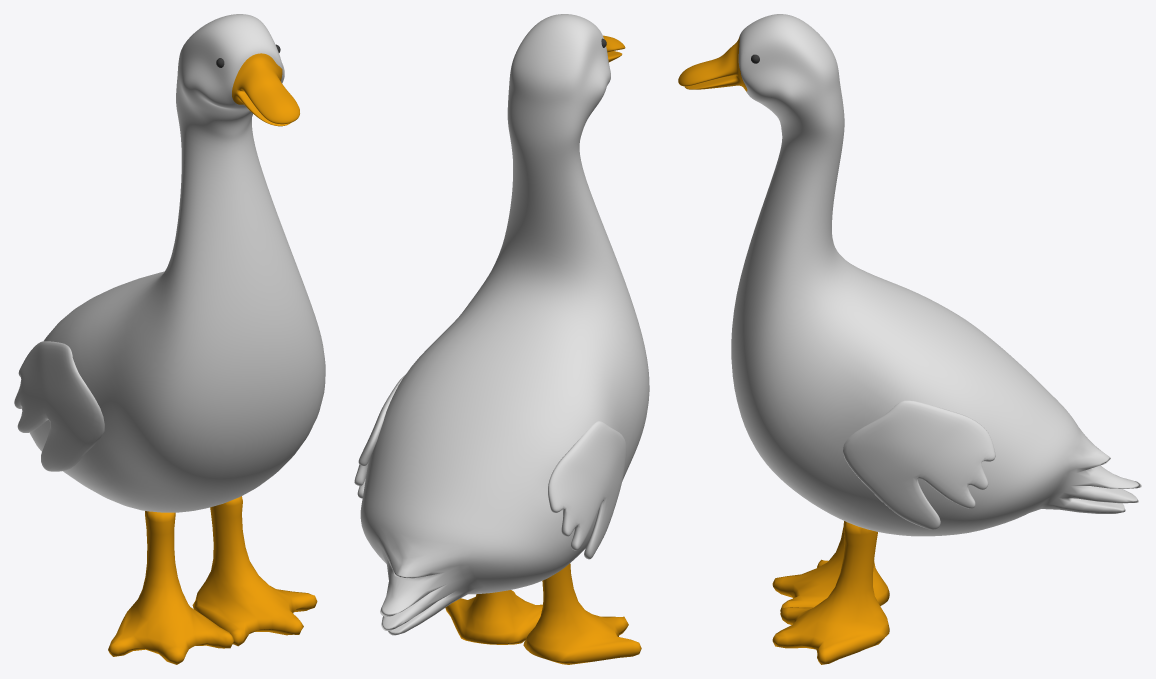
File: UTKA.fbx
The picture shows the model from 3 angles, left to right: view 1: azimuth 30°, elevation 25°; view 2: azimuth 150°, elevation 25°; view 3: azimuth 270°, elevation 25°; orthographic projection. The views are drawn at different scales.
Visible parts, largest first — view 1: pCube2; view 2: pCube2; view 3: pCube2.
Boxes of the visible parts, x1,y1,x2,y2 form: pCube2: [14, 14, 325, 664]; pCube2: [354, 14, 649, 664]; pCube2: [678, 14, 1141, 664].
Size of the model in its own units: 1.42 by 3.67 by 2.56.
